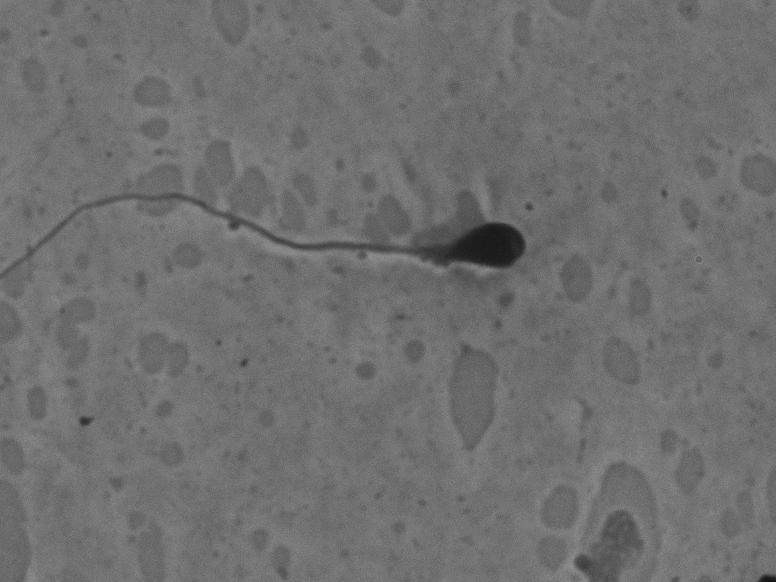Abnormal: (17, 138, 584, 332)
